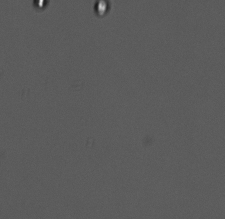Living Cell: (91, 1, 112, 17), (30, 1, 53, 11)
